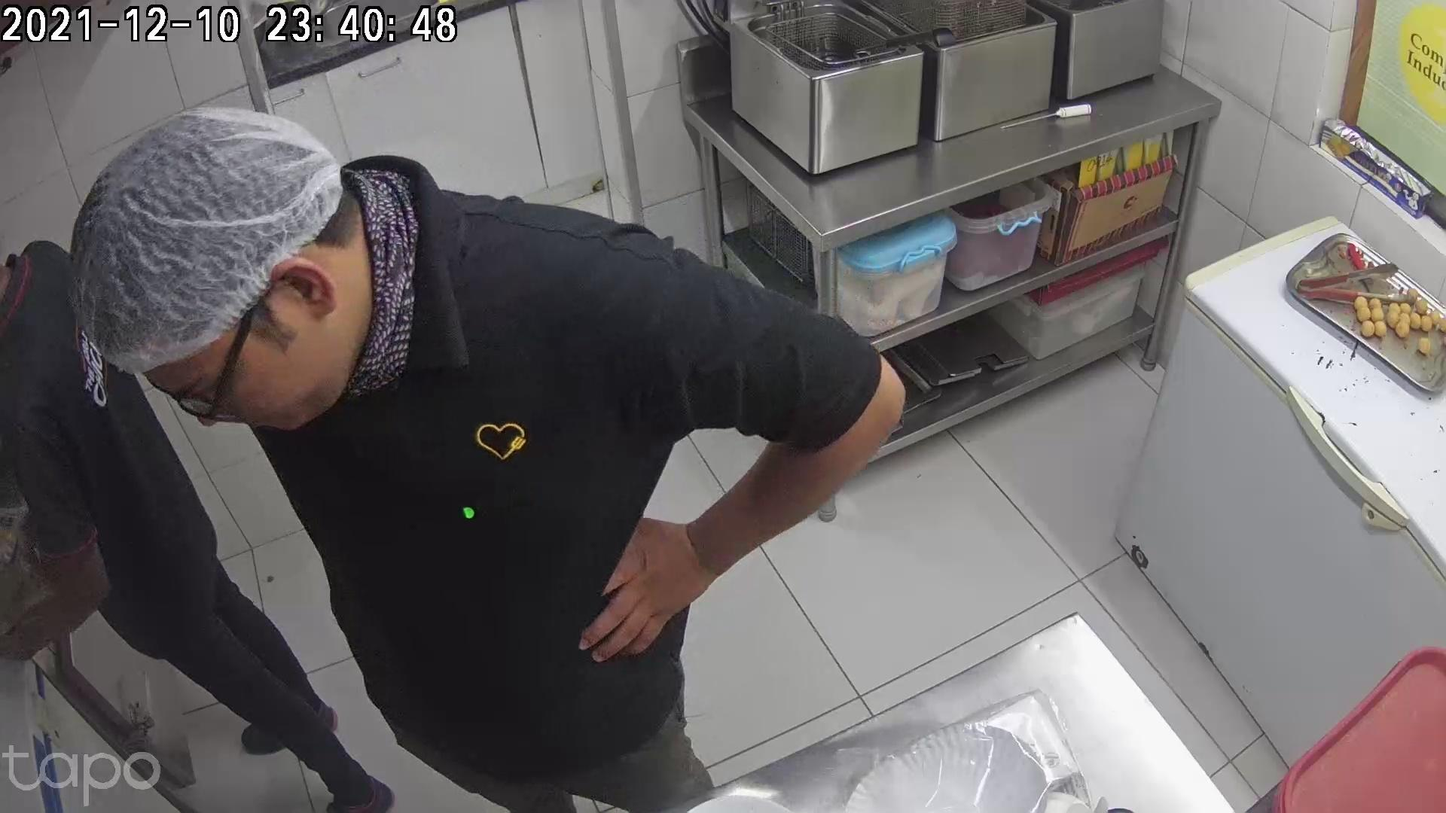no_gloves: (401, 606, 491, 728)
